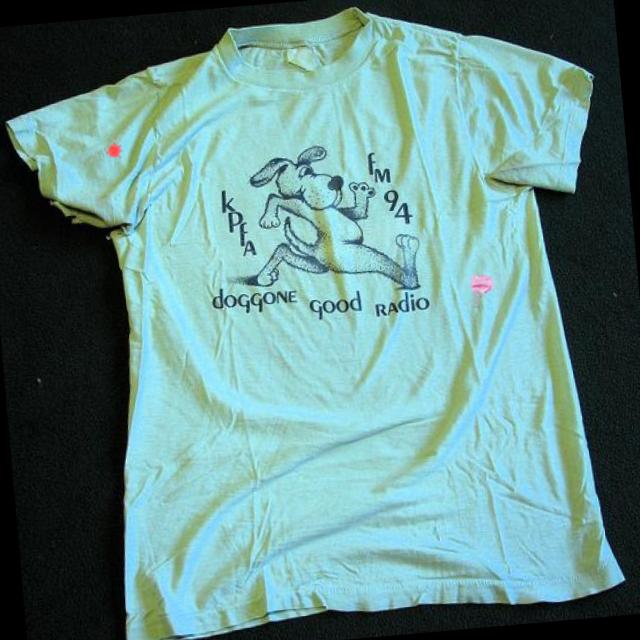stain: (460, 268, 502, 300), (100, 140, 125, 164)
